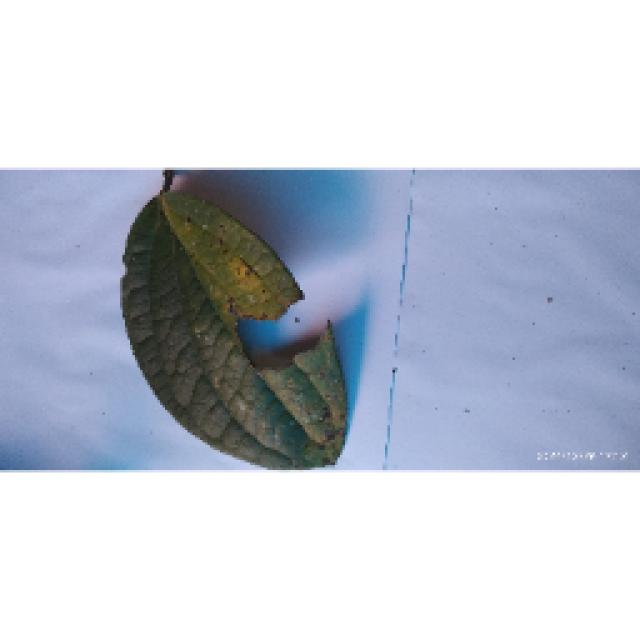slow-decline: (110, 180, 352, 468)
